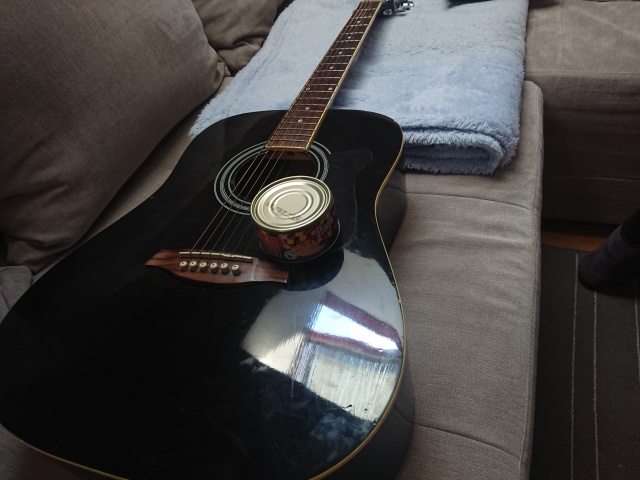Giana Tuna Salad Mexico 185g: (247, 173, 344, 266)
